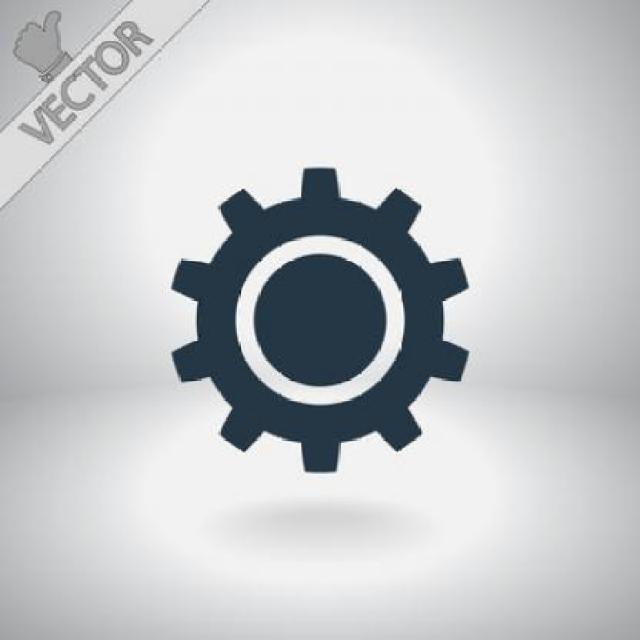Gear: (165, 163, 470, 475)
